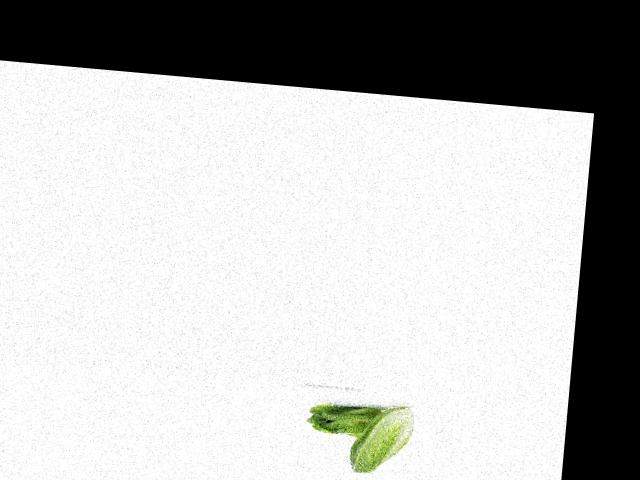lettuce: (305, 392, 382, 446)
